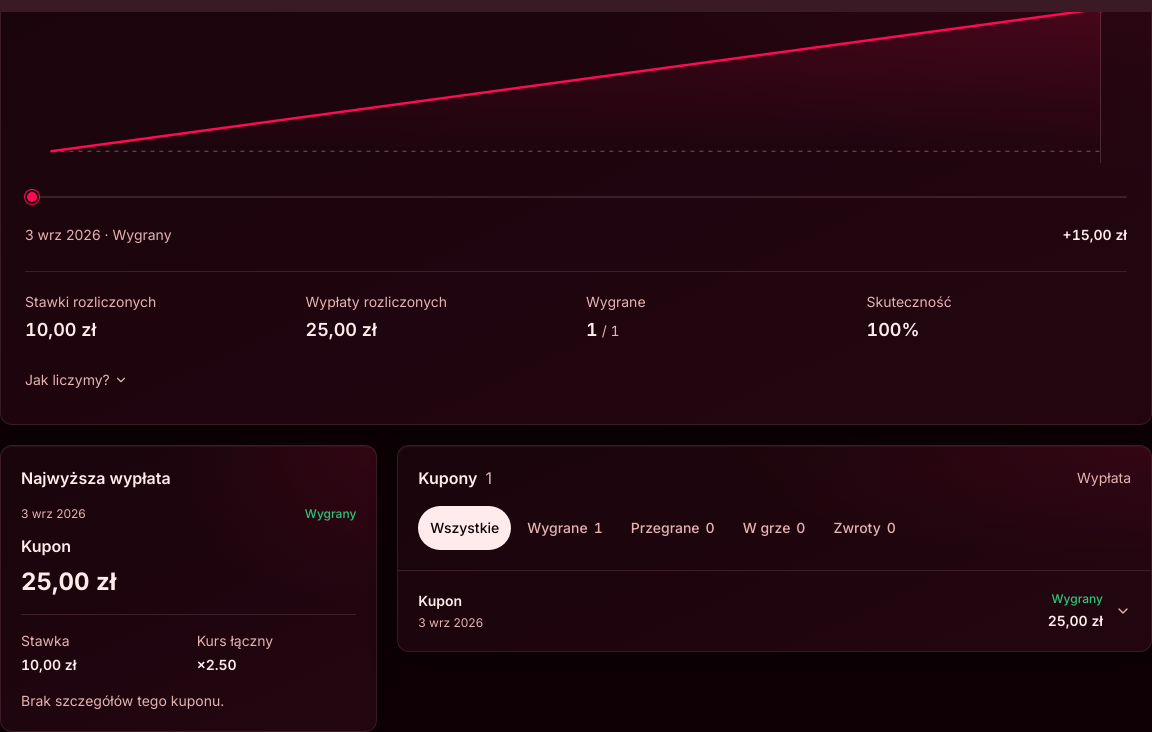
Scenario: summary-first Replay › has a useful empty filter and tolerates missing leg details
The width and height of the screenshot is (1152, 732).
(page scrolled)
Step 1. Click the button "Przegrane0" → (673, 528), box [619,506,727,550]
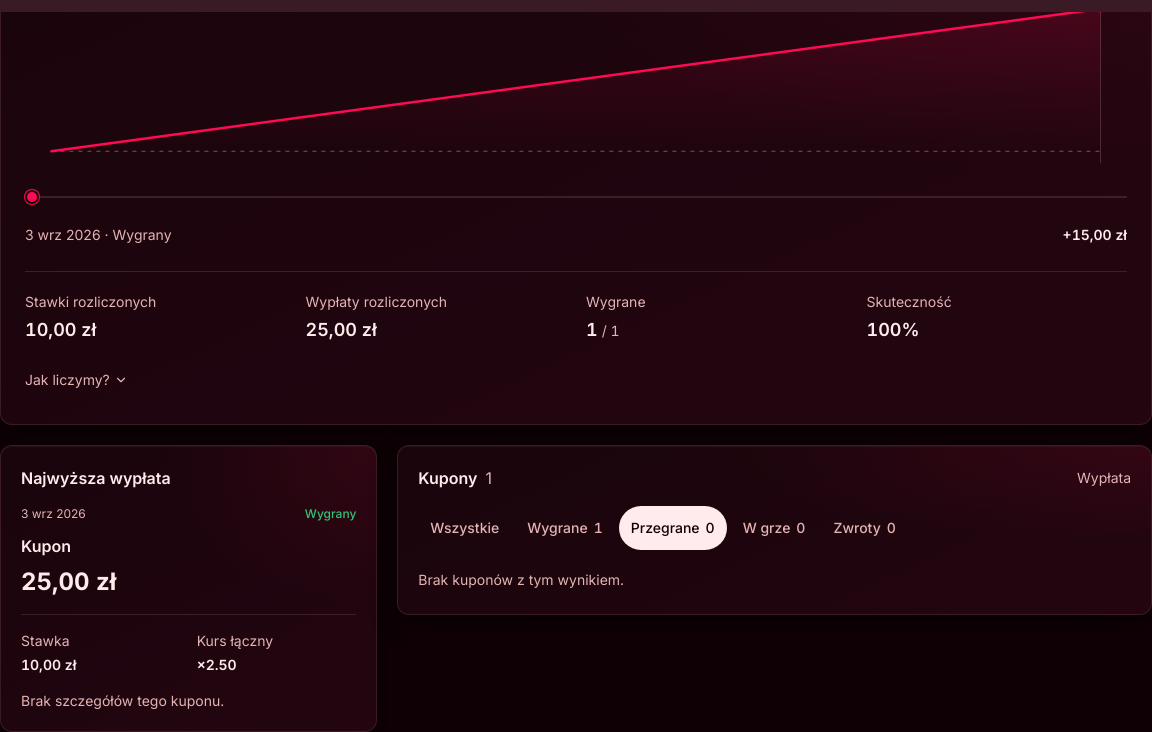
Expected: the message reads "Brak kuponów z tym wynikiem.", [418,571,624,588]
